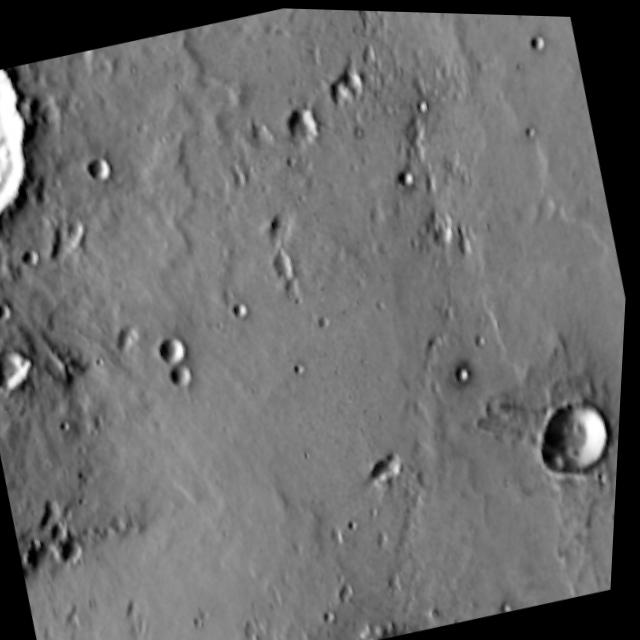Crater: (200, 577, 499, 640), (0, 60, 79, 262)
